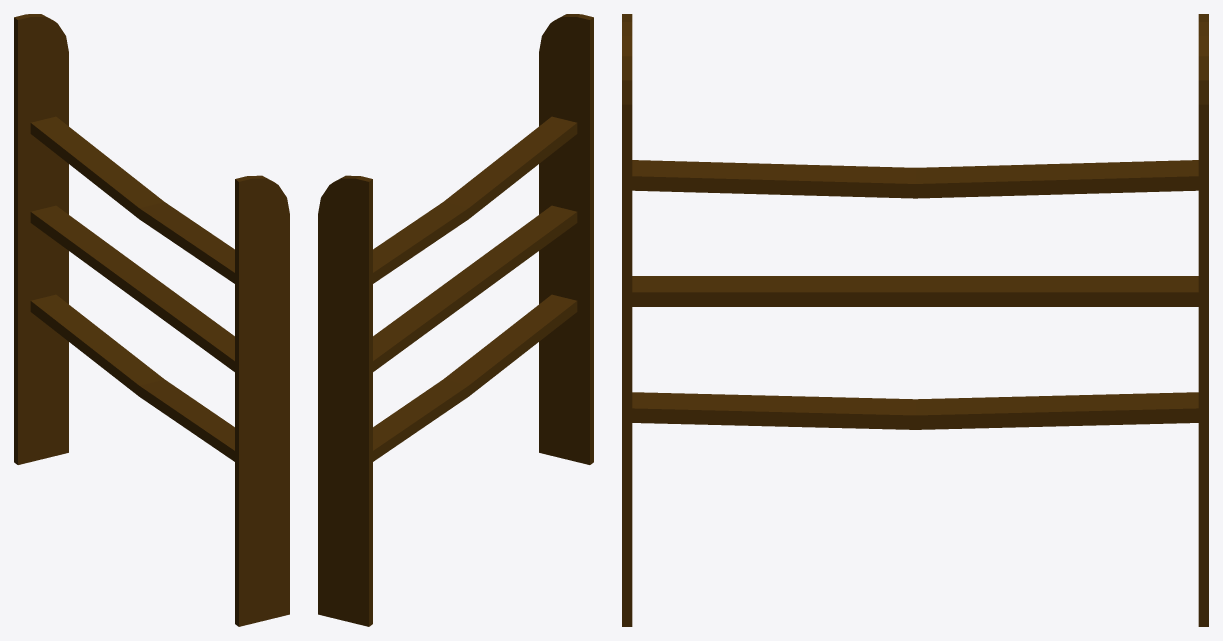
File: Shelves.fbx
3 renders of one model, left to right at view 1: azimuth 30°, elevation 25°; view 2: azimuth 150°, elevation 25°; view 3: azimuth 270°, elevation 25°, orthographic. The views are drawn at different scales.
Parts seen in each view (by area): view 1: Shelves; view 2: Shelves; view 3: Shelves.
Part boxes in pixels (left/top/right/bottom): Shelves: left=14, top=14, right=289, bottom=626; Shelves: left=318, top=14, right=593, bottom=626; Shelves: left=622, top=14, right=1208, bottom=626.
Size of the model in its own units: 24 by 200 by 183.
